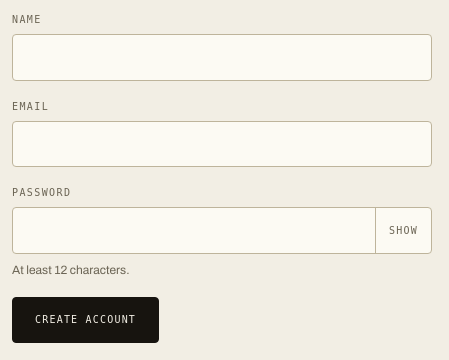
Test: SignUpForm › tells the visitor to verify their address instead of claiming they are signed in
Type "Asha" into the field labelled "NAME" at point(222, 57), box [12,34,432,80]
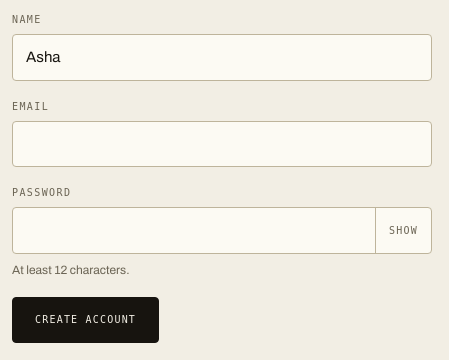
Type "asha@example.com" into the field labelled "EMAIL" at point(222, 144), box [12,120,432,167]
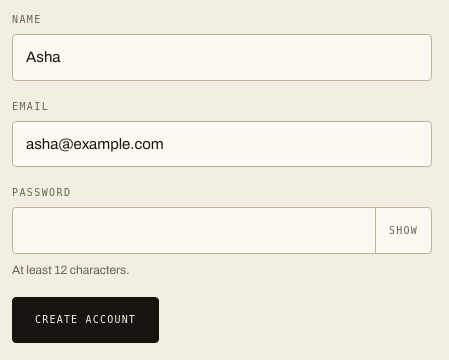
Type "a-sufficiently-long-password" into the password field labelled "PASSWORD" at point(222, 230), box [12,207,432,254]
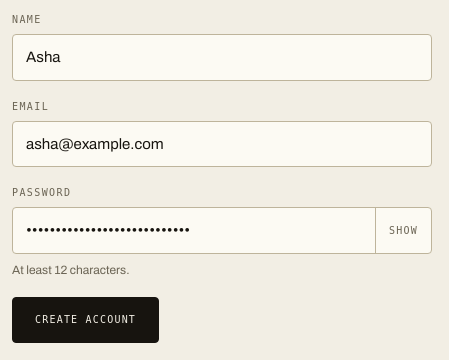
Click the button "CREATE ACCOUNT" at point(86, 320), box [12,296,159,342]
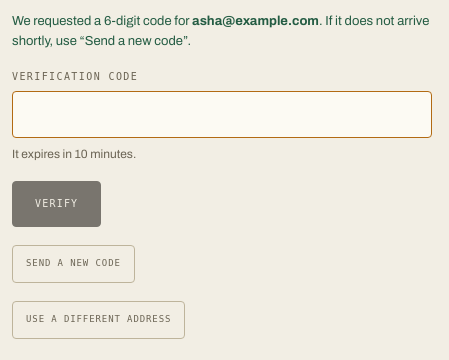
Expected: the message shows "code", [112,14,192,28]
Expected: the message shows "asha@example.com", [192,14,319,28]
